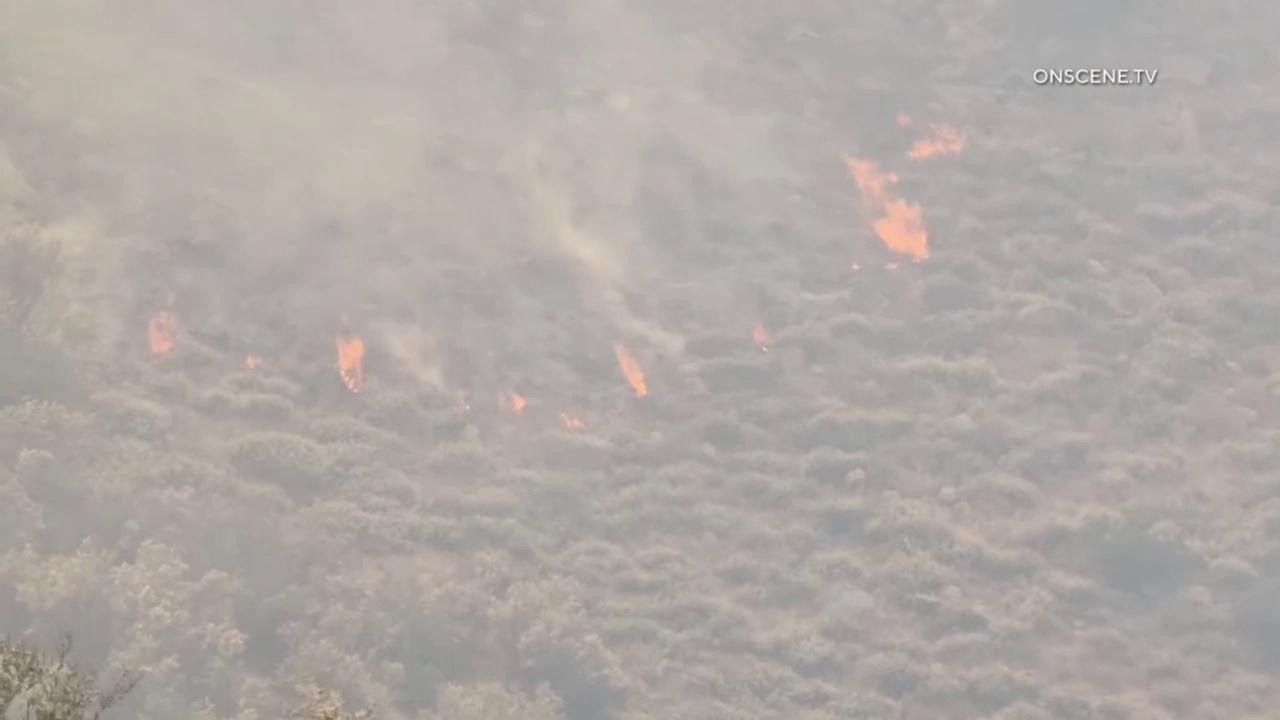fire: (840, 153, 930, 261), (905, 122, 969, 161), (143, 305, 186, 358), (334, 334, 368, 396), (612, 342, 648, 398), (749, 321, 772, 347), (507, 389, 527, 415), (242, 351, 264, 371), (560, 414, 584, 430), (895, 108, 912, 126)
smoke: (0, 0, 1280, 720)
